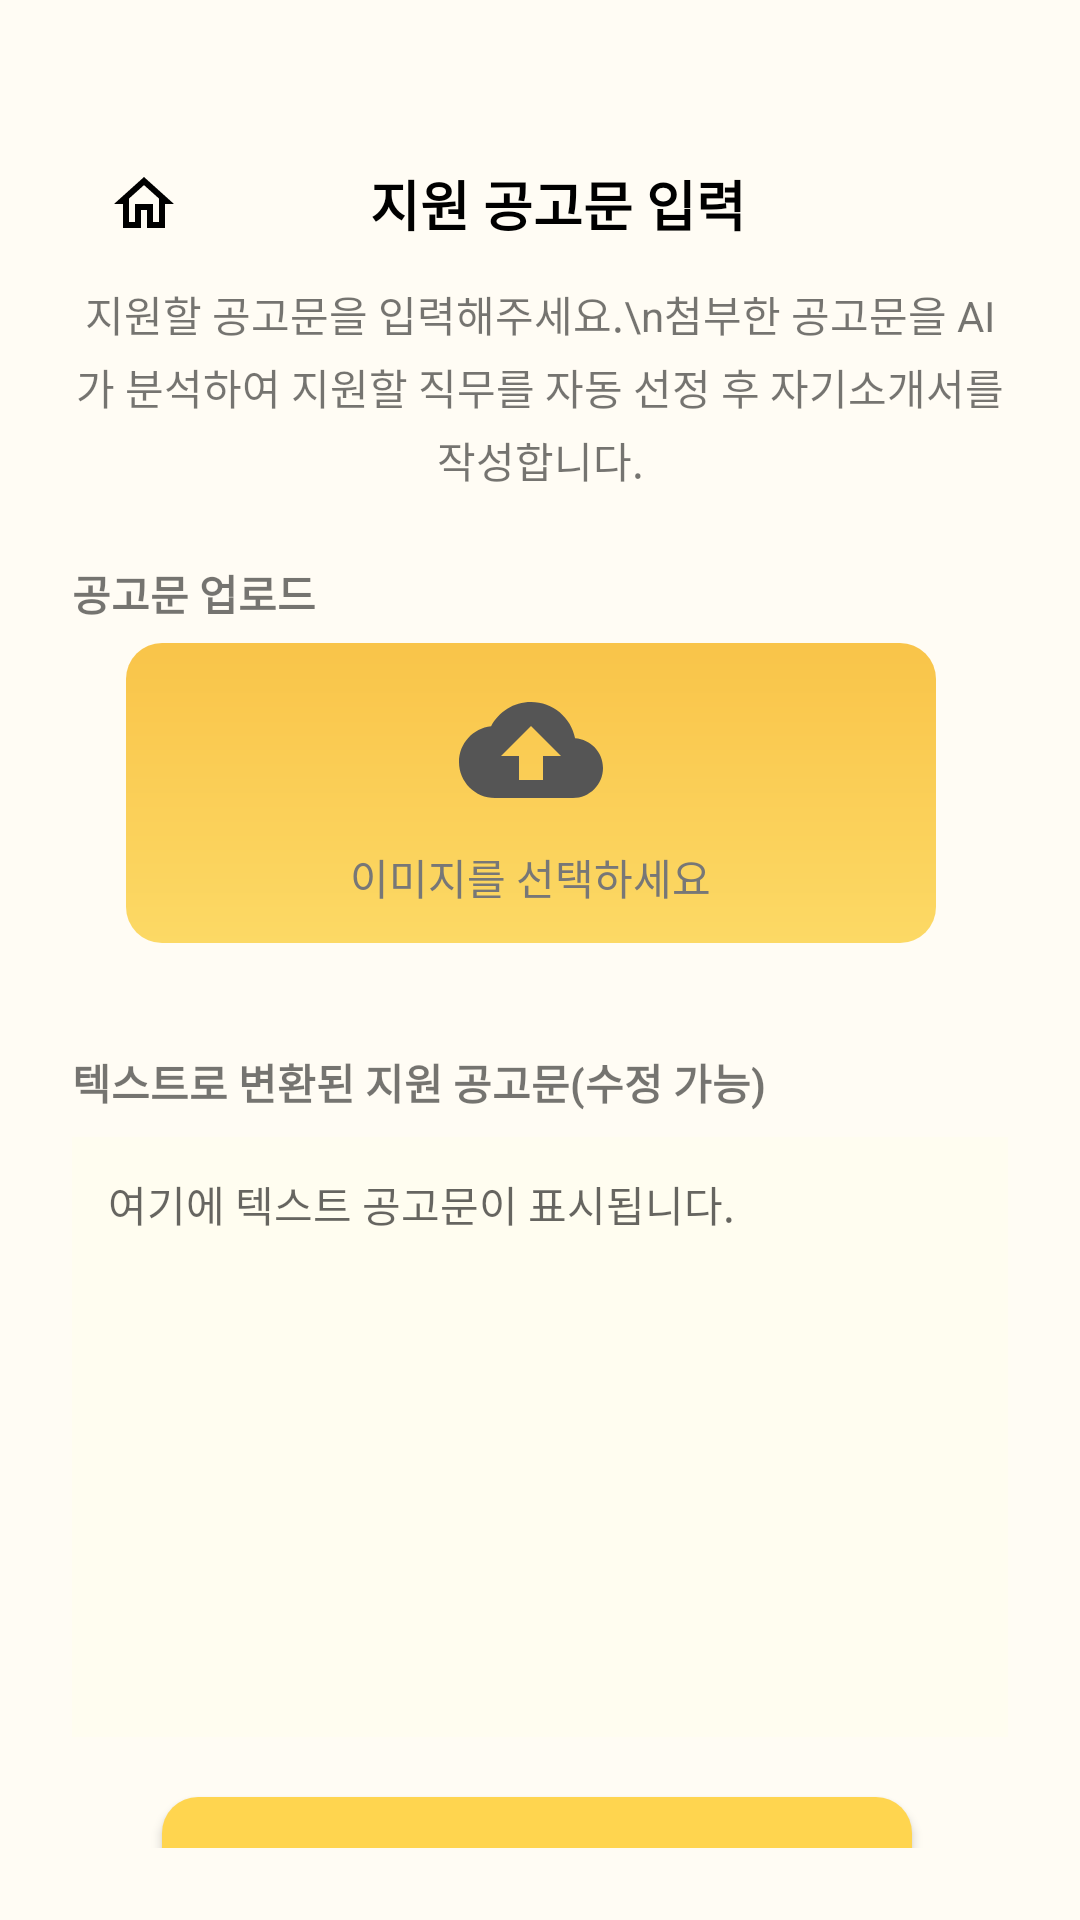

Where icons sit on this 1080×1920 app screen, as region(x1, y1, x2, y2):
home: region(114, 177, 174, 228)
Upload: region(459, 702, 603, 798)
